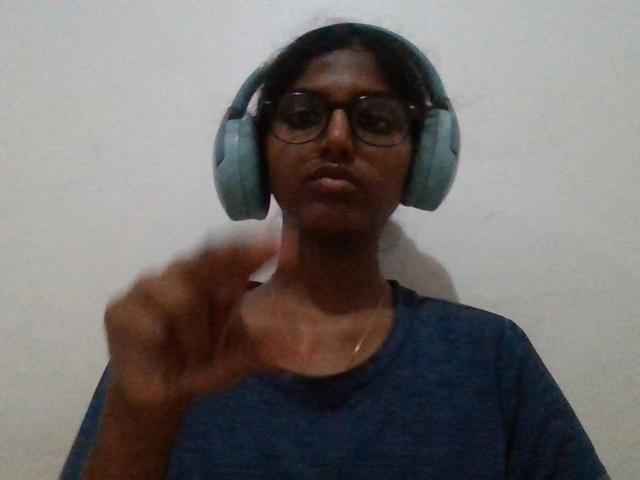No: (55, 201, 309, 436)
